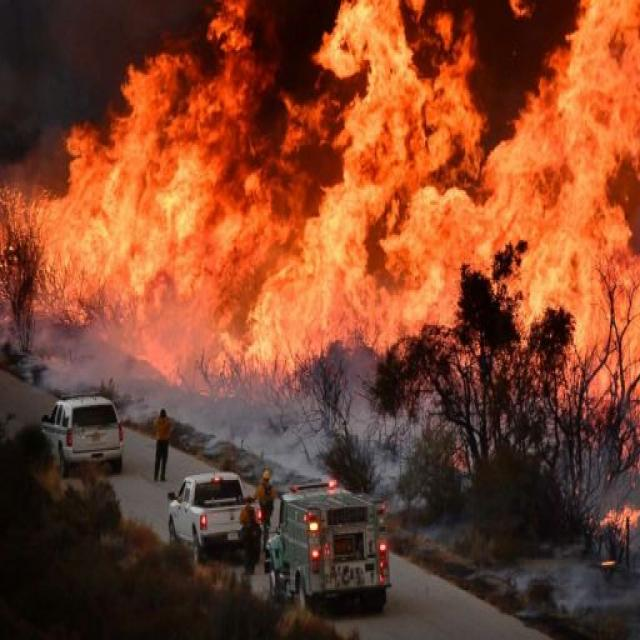Fire: (25, 0, 640, 422)
